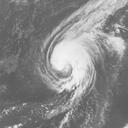cyclone: (38, 36, 98, 93)
